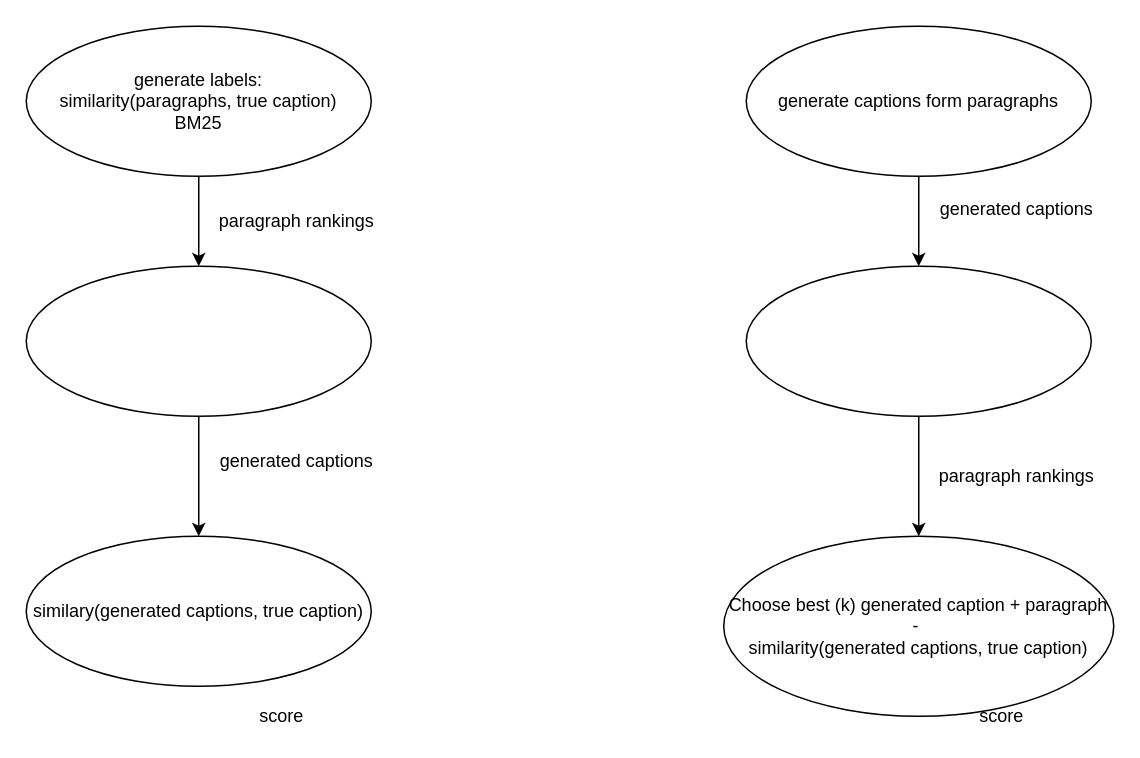
Image size: 1140x758. Some labels were removed from this diagram. Each missing label, with the centre of its shape:
generate captions with chosen paragraphs (k): (x=198, y=340)
generate labels: similarity(generated captions, true caption): (x=918, y=340)
